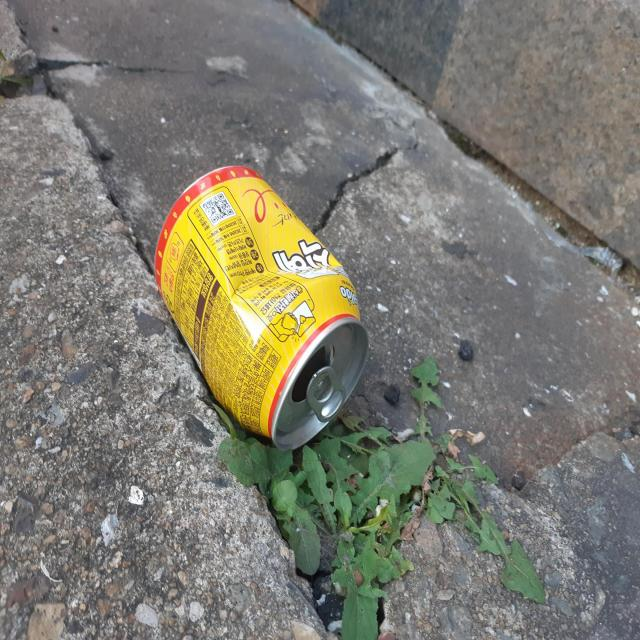can: (154, 166, 368, 451)
